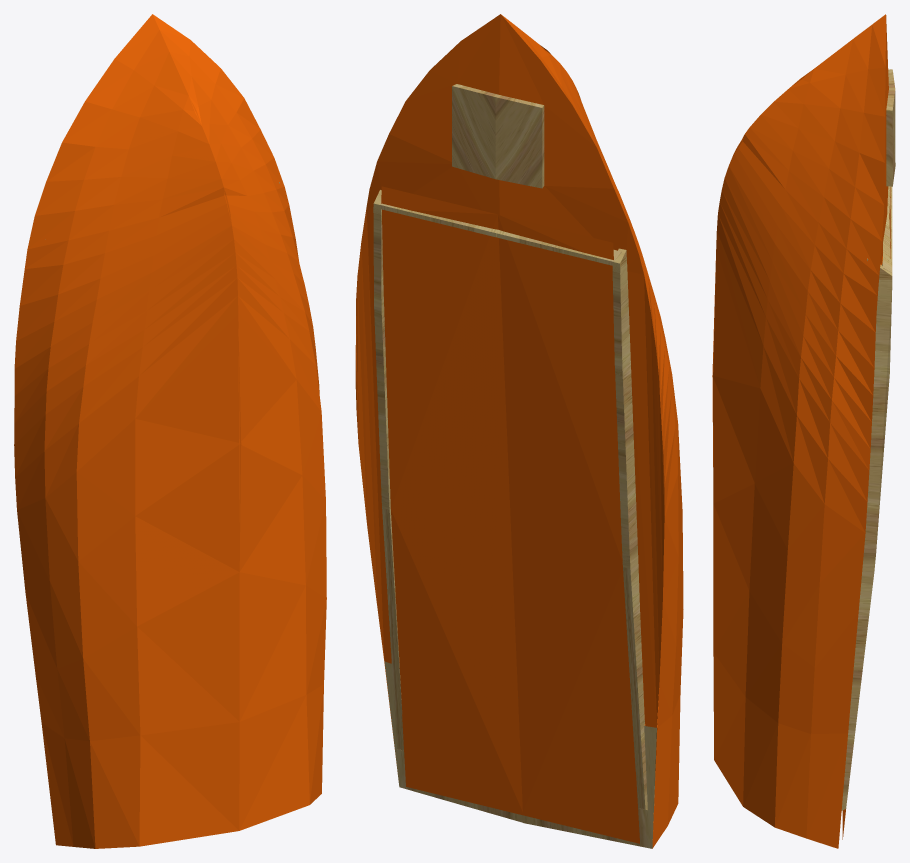
The model's file is simpleHull.dae.
3 views of the same model, side by side, from view 1: azimuth 30°, elevation 25°; view 2: azimuth 150°, elevation 25°; view 3: azimuth 270°, elevation 25° (orthographic). The views are drawn at different scales.
Parts seen in each view (by area): view 1: node; view 2: node; view 3: node.
Part boxes in pixels (x1,y1,x2,y2): node: (14, 14, 326, 848); node: (355, 14, 683, 848); node: (712, 14, 895, 848).
Size of the model in its own units: 2.02 by 5.2 by 1.1.
